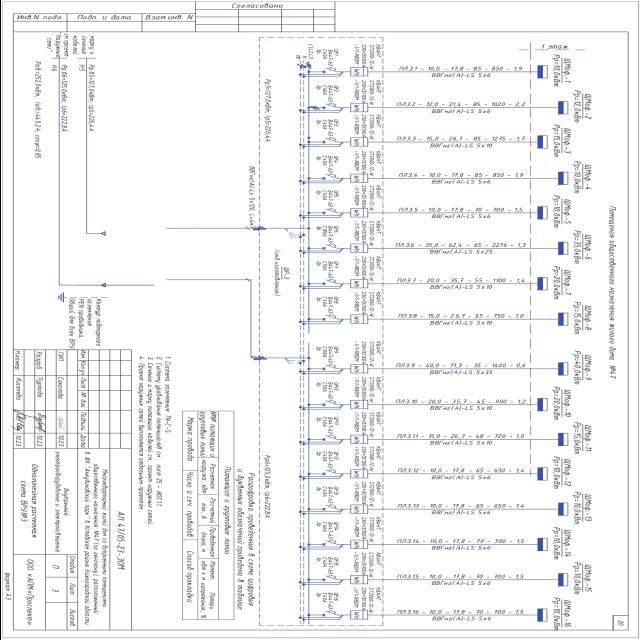-: (350, 113, 380, 141), (351, 290, 381, 318), (351, 410, 381, 438), (352, 480, 382, 508), (352, 516, 382, 544), (350, 550, 380, 578), (350, 149, 380, 177), (351, 220, 381, 248), (351, 42, 381, 70), (351, 376, 381, 404), (350, 586, 380, 614), (351, 340, 381, 368), (350, 78, 380, 106), (351, 254, 381, 282), (351, 445, 381, 473), (350, 185, 380, 212), (315, 344, 333, 364), (314, 484, 332, 504), (314, 556, 332, 576), (314, 380, 332, 400), (314, 224, 332, 244), (314, 154, 332, 174), (314, 295, 332, 315), (314, 416, 332, 436), (314, 188, 332, 208), (314, 118, 332, 138), (314, 258, 332, 278), (315, 84, 333, 104), (314, 521, 332, 541), (314, 590, 332, 610), (314, 48, 332, 68), (314, 450, 332, 470), (280, 266, 290, 280)
QF: (320, 136, 338, 144), (320, 242, 338, 250), (321, 314, 339, 322), (320, 364, 338, 372), (321, 434, 339, 442), (321, 503, 339, 511), (320, 609, 338, 617), (321, 66, 338, 74), (322, 102, 339, 110), (322, 172, 339, 180), (321, 278, 338, 286), (321, 398, 338, 406), (321, 539, 338, 547), (321, 574, 338, 582), (321, 468, 338, 476), (320, 208, 338, 215)
WH: (348, 610, 368, 621), (348, 364, 368, 374), (348, 67, 368, 77), (348, 102, 368, 112), (349, 208, 369, 218), (348, 279, 368, 289), (348, 400, 368, 410), (348, 504, 368, 514), (348, 314, 368, 324), (348, 137, 368, 147), (348, 434, 368, 444), (348, 540, 368, 550), (348, 575, 368, 585), (348, 469, 368, 479), (348, 174, 368, 184), (348, 244, 368, 254)
